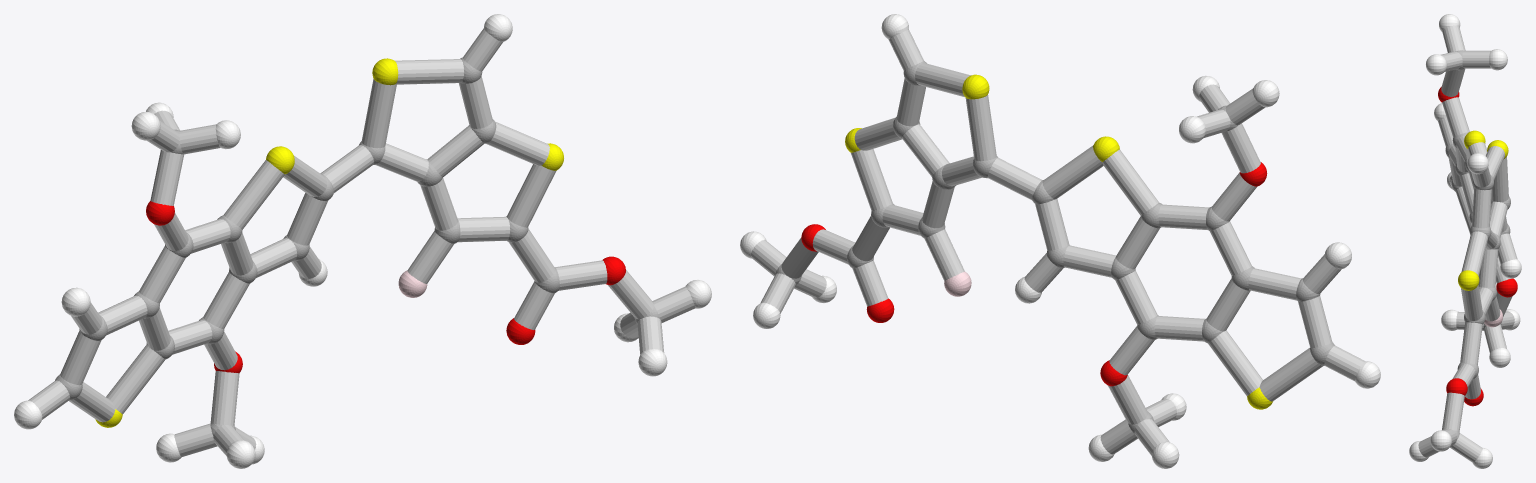
The model's file is color.glb.
3 renders of one model, left to right at view 1: azimuth 30°, elevation 25°; view 2: azimuth 150°, elevation 25°; view 3: azimuth 270°, elevation 25°, orthographic. The views are drawn at different scales.
Visible parts, largest first — view 1: grp15205, grp8689, grp1, grp7241, grp13395; view 2: grp15205, grp8689, grp1, grp13395, grp7241; view 3: grp15205, grp8689, grp1, grp13395, grp7241, grp14843.
Boxes of the visible parts, x1,y1,x2,y2 form: grp15205: (28, 28, 695, 457); grp8689: (14, 14, 711, 468); grp1: (55, 57, 659, 436); grp7241: (95, 58, 563, 427); grp13395: (146, 201, 625, 373); grp15205: (750, 29, 1365, 455); grp8689: (740, 14, 1380, 468); grp1: (775, 61, 1334, 433); grp13395: (801, 162, 1267, 386); grp7241: (845, 74, 1272, 409); grp15205: (1418, 25, 1517, 462); grp8689: (1409, 14, 1521, 468); grp1: (1442, 50, 1510, 447); grp13395: (1438, 87, 1517, 406); grp7241: (1458, 130, 1508, 290); grp14843: (1484, 309, 1502, 327).
Bounding box in the file's own units: 16.3 × 9.33 × 3.14.
